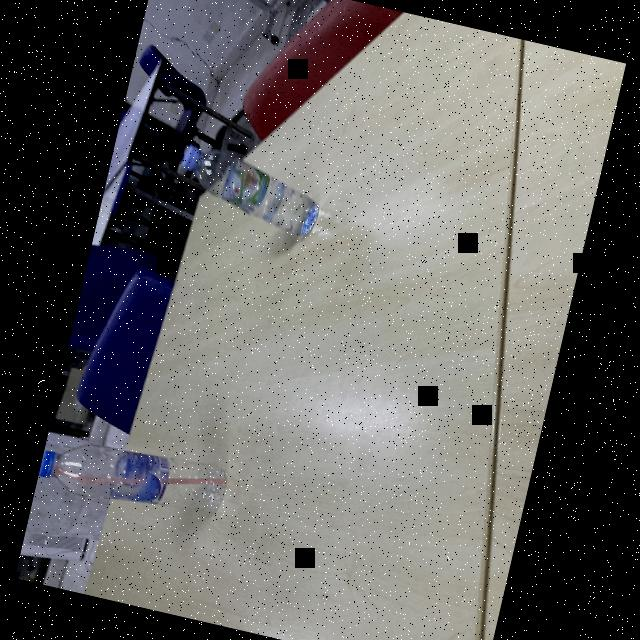plastic_bottle: (36, 424, 230, 528), (170, 140, 328, 240)
